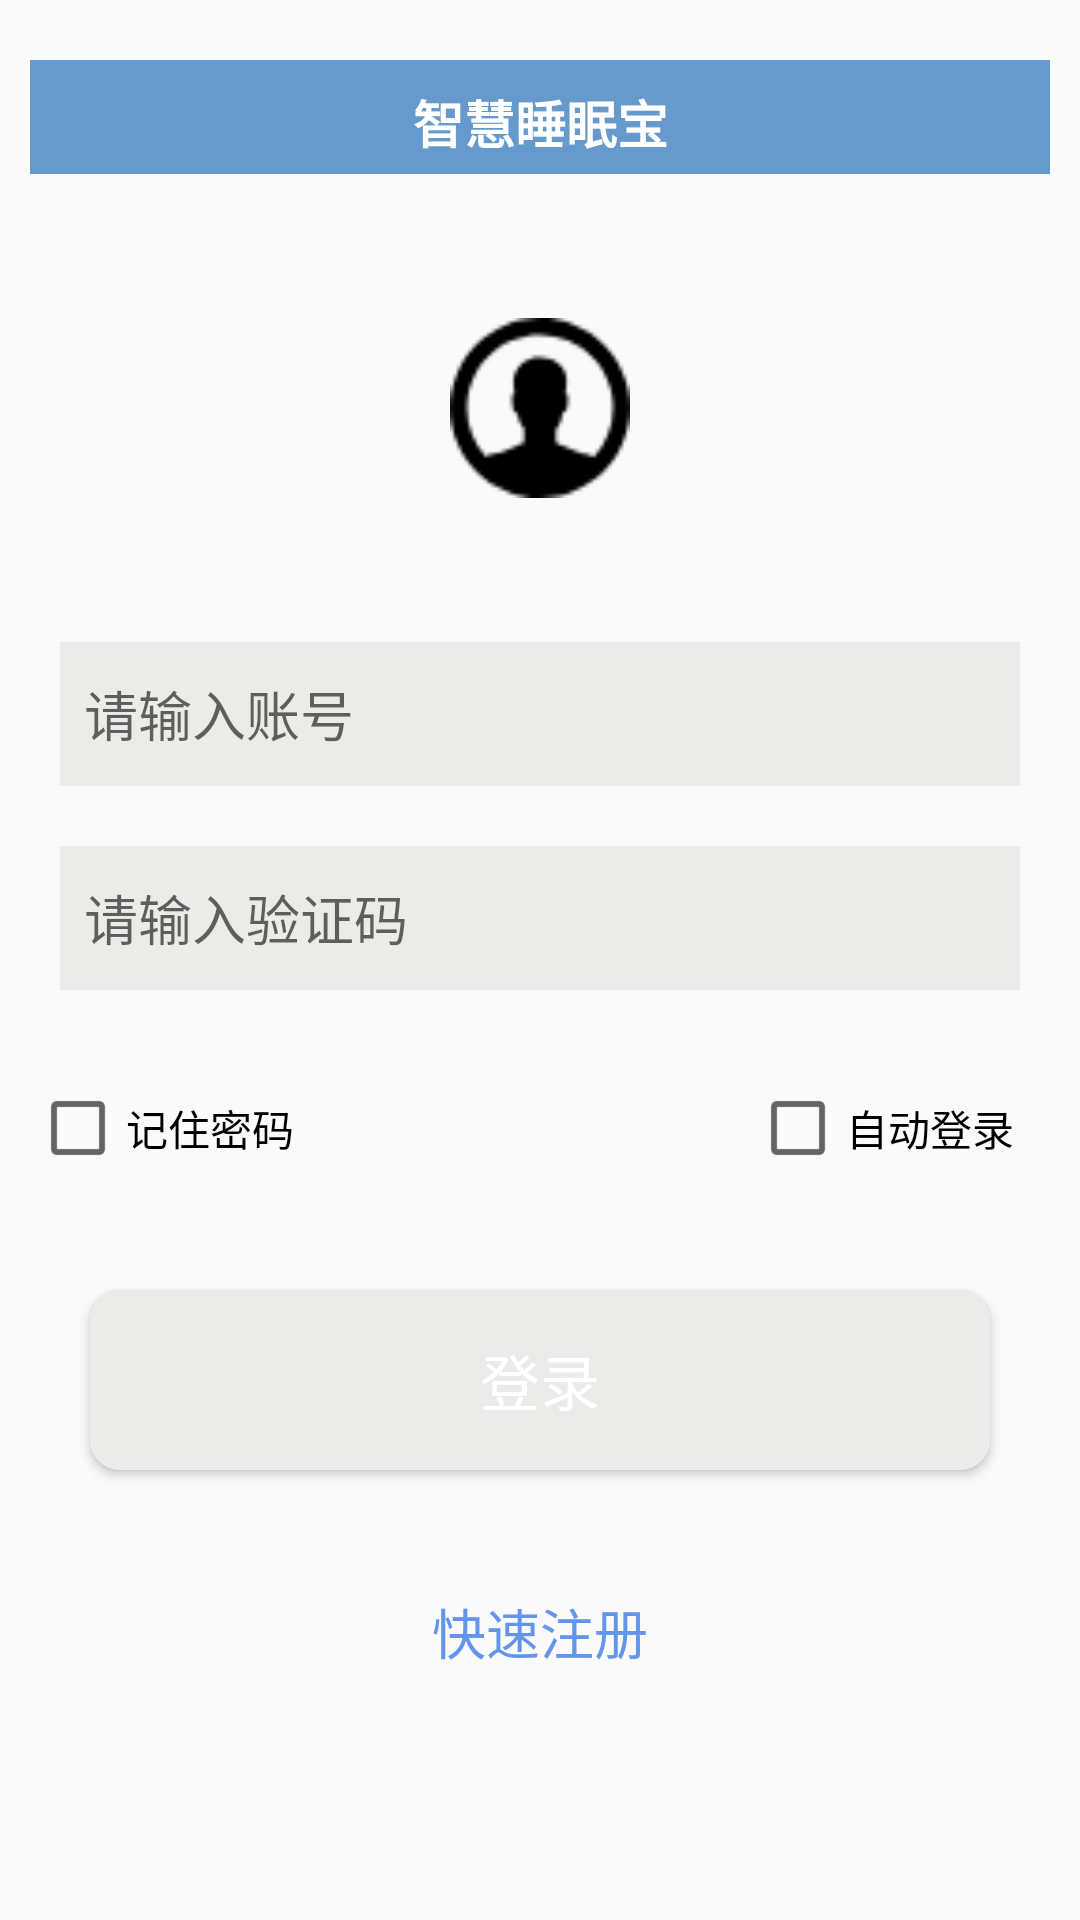

Icons on this 1080×1920 Android screen, each with its box as (x1, y1, x2, y2):
user: (450, 318, 630, 498)
